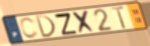2: (93, 8, 114, 33)
C: (19, 16, 40, 40)
D: (35, 15, 57, 39)
T: (110, 6, 128, 30)
X: (71, 9, 97, 35)
Z: (53, 12, 79, 36)
